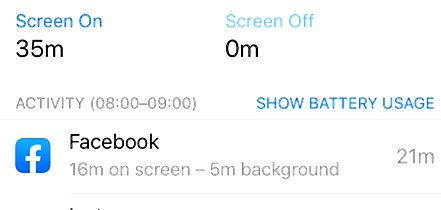activity: (8, 91, 219, 119)
app: (5, 130, 441, 197)
